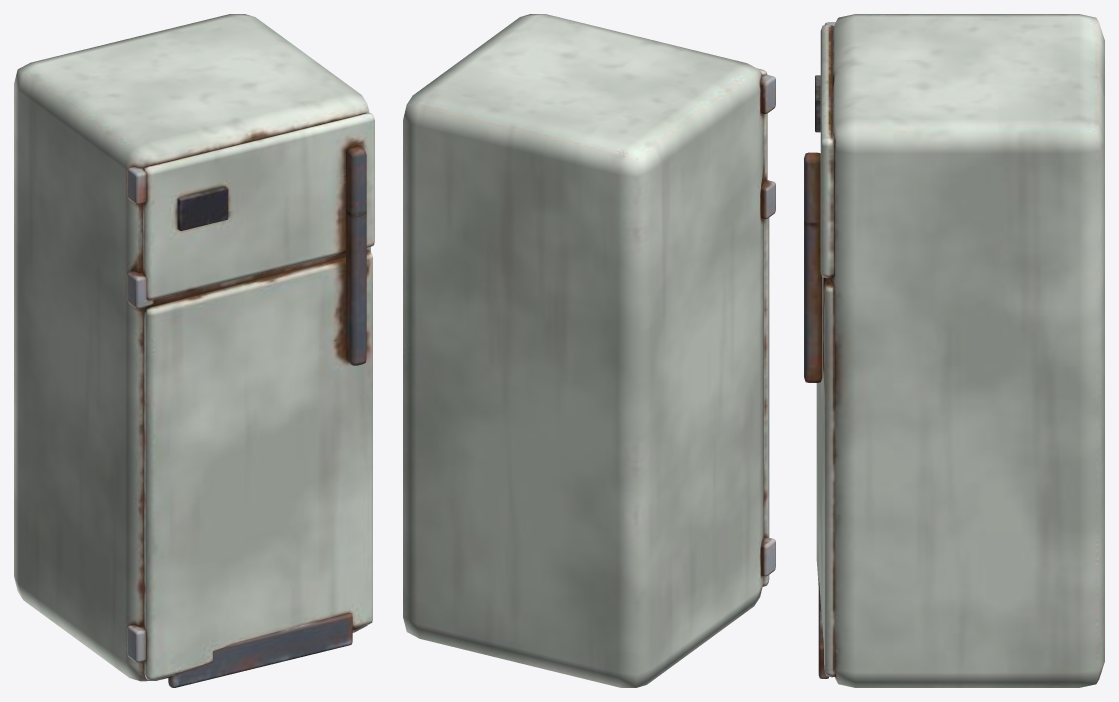
Rendered from fridge.glb.
The picture shows the model from 3 angles, left to right: view 1: azimuth 30°, elevation 25°; view 2: azimuth 150°, elevation 25°; view 3: azimuth 270°, elevation 25°; orthographic projection. The views are drawn at different scales.
Parts seen in each view (by area): view 1: body; view 2: body; view 3: body.
Boxes of the visible parts, x1,y1,x2,y2 form: body: [14, 14, 374, 687]; body: [403, 14, 775, 687]; body: [804, 14, 1104, 687].
Bounding box in the file's own units: 0.81 × 1.7 × 0.82.
1 material, 1 textured.
